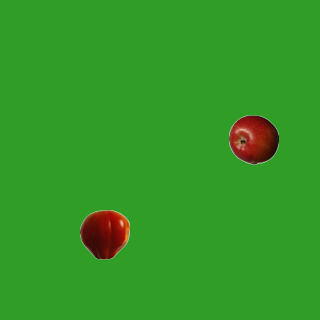Apple Braeburn: (228, 114, 278, 164)
Tomato 1: (79, 209, 129, 259)
